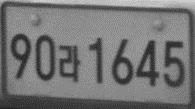0: (34, 34, 56, 80)
1: (87, 35, 104, 85)
4: (134, 38, 160, 86)
5: (162, 40, 186, 88)
6: (110, 38, 134, 85)
9: (9, 32, 31, 79)
라: (57, 44, 82, 83)
